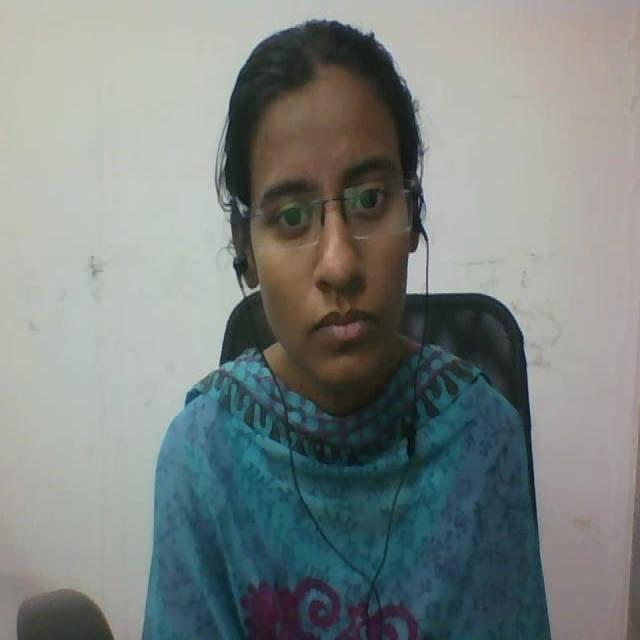Engaged: (203, 0, 465, 407)
